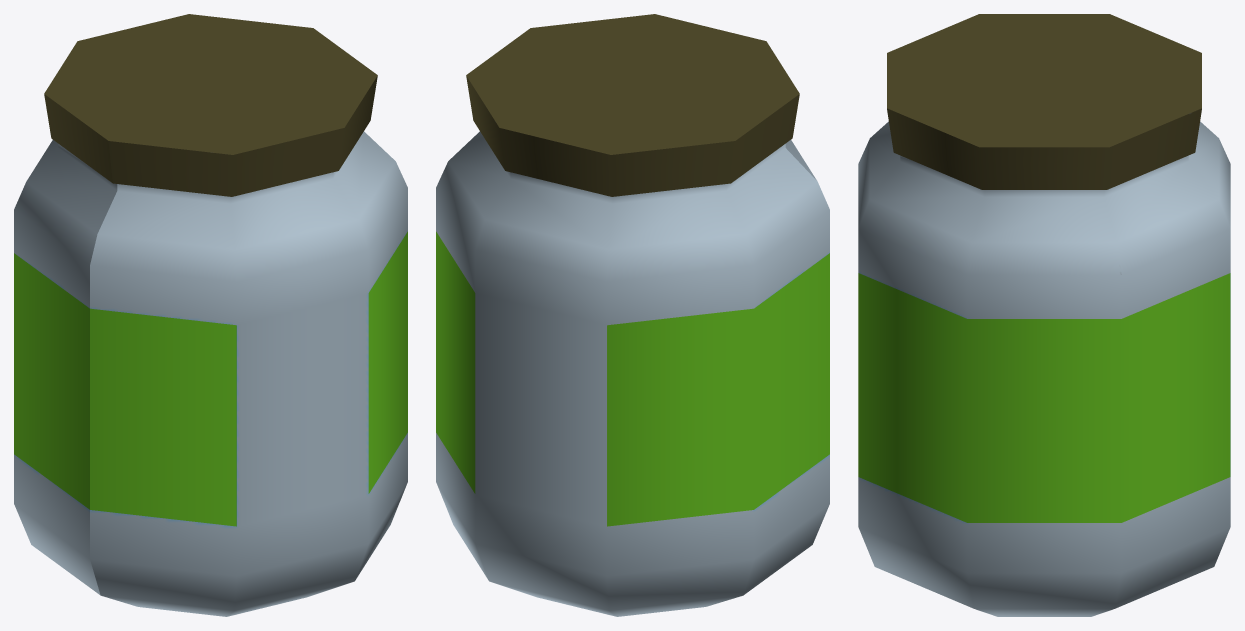
Rendered from MossJar.fbx.
3 renders of one model, left to right at view 1: azimuth 30°, elevation 25°; view 2: azimuth 150°, elevation 25°; view 3: azimuth 270°, elevation 25°, orthographic.
Parts seen in each view (by area): view 1: MossJar; view 2: MossJar; view 3: MossJar.
Part boxes in pixels (left/top/right/bottom): MossJar: left=14, top=14, right=407, bottom=616; MossJar: left=436, top=14, right=829, bottom=616; MossJar: left=858, top=14, right=1230, bottom=616.
Bounding box in the file's own units: 231 × 335 × 231.
